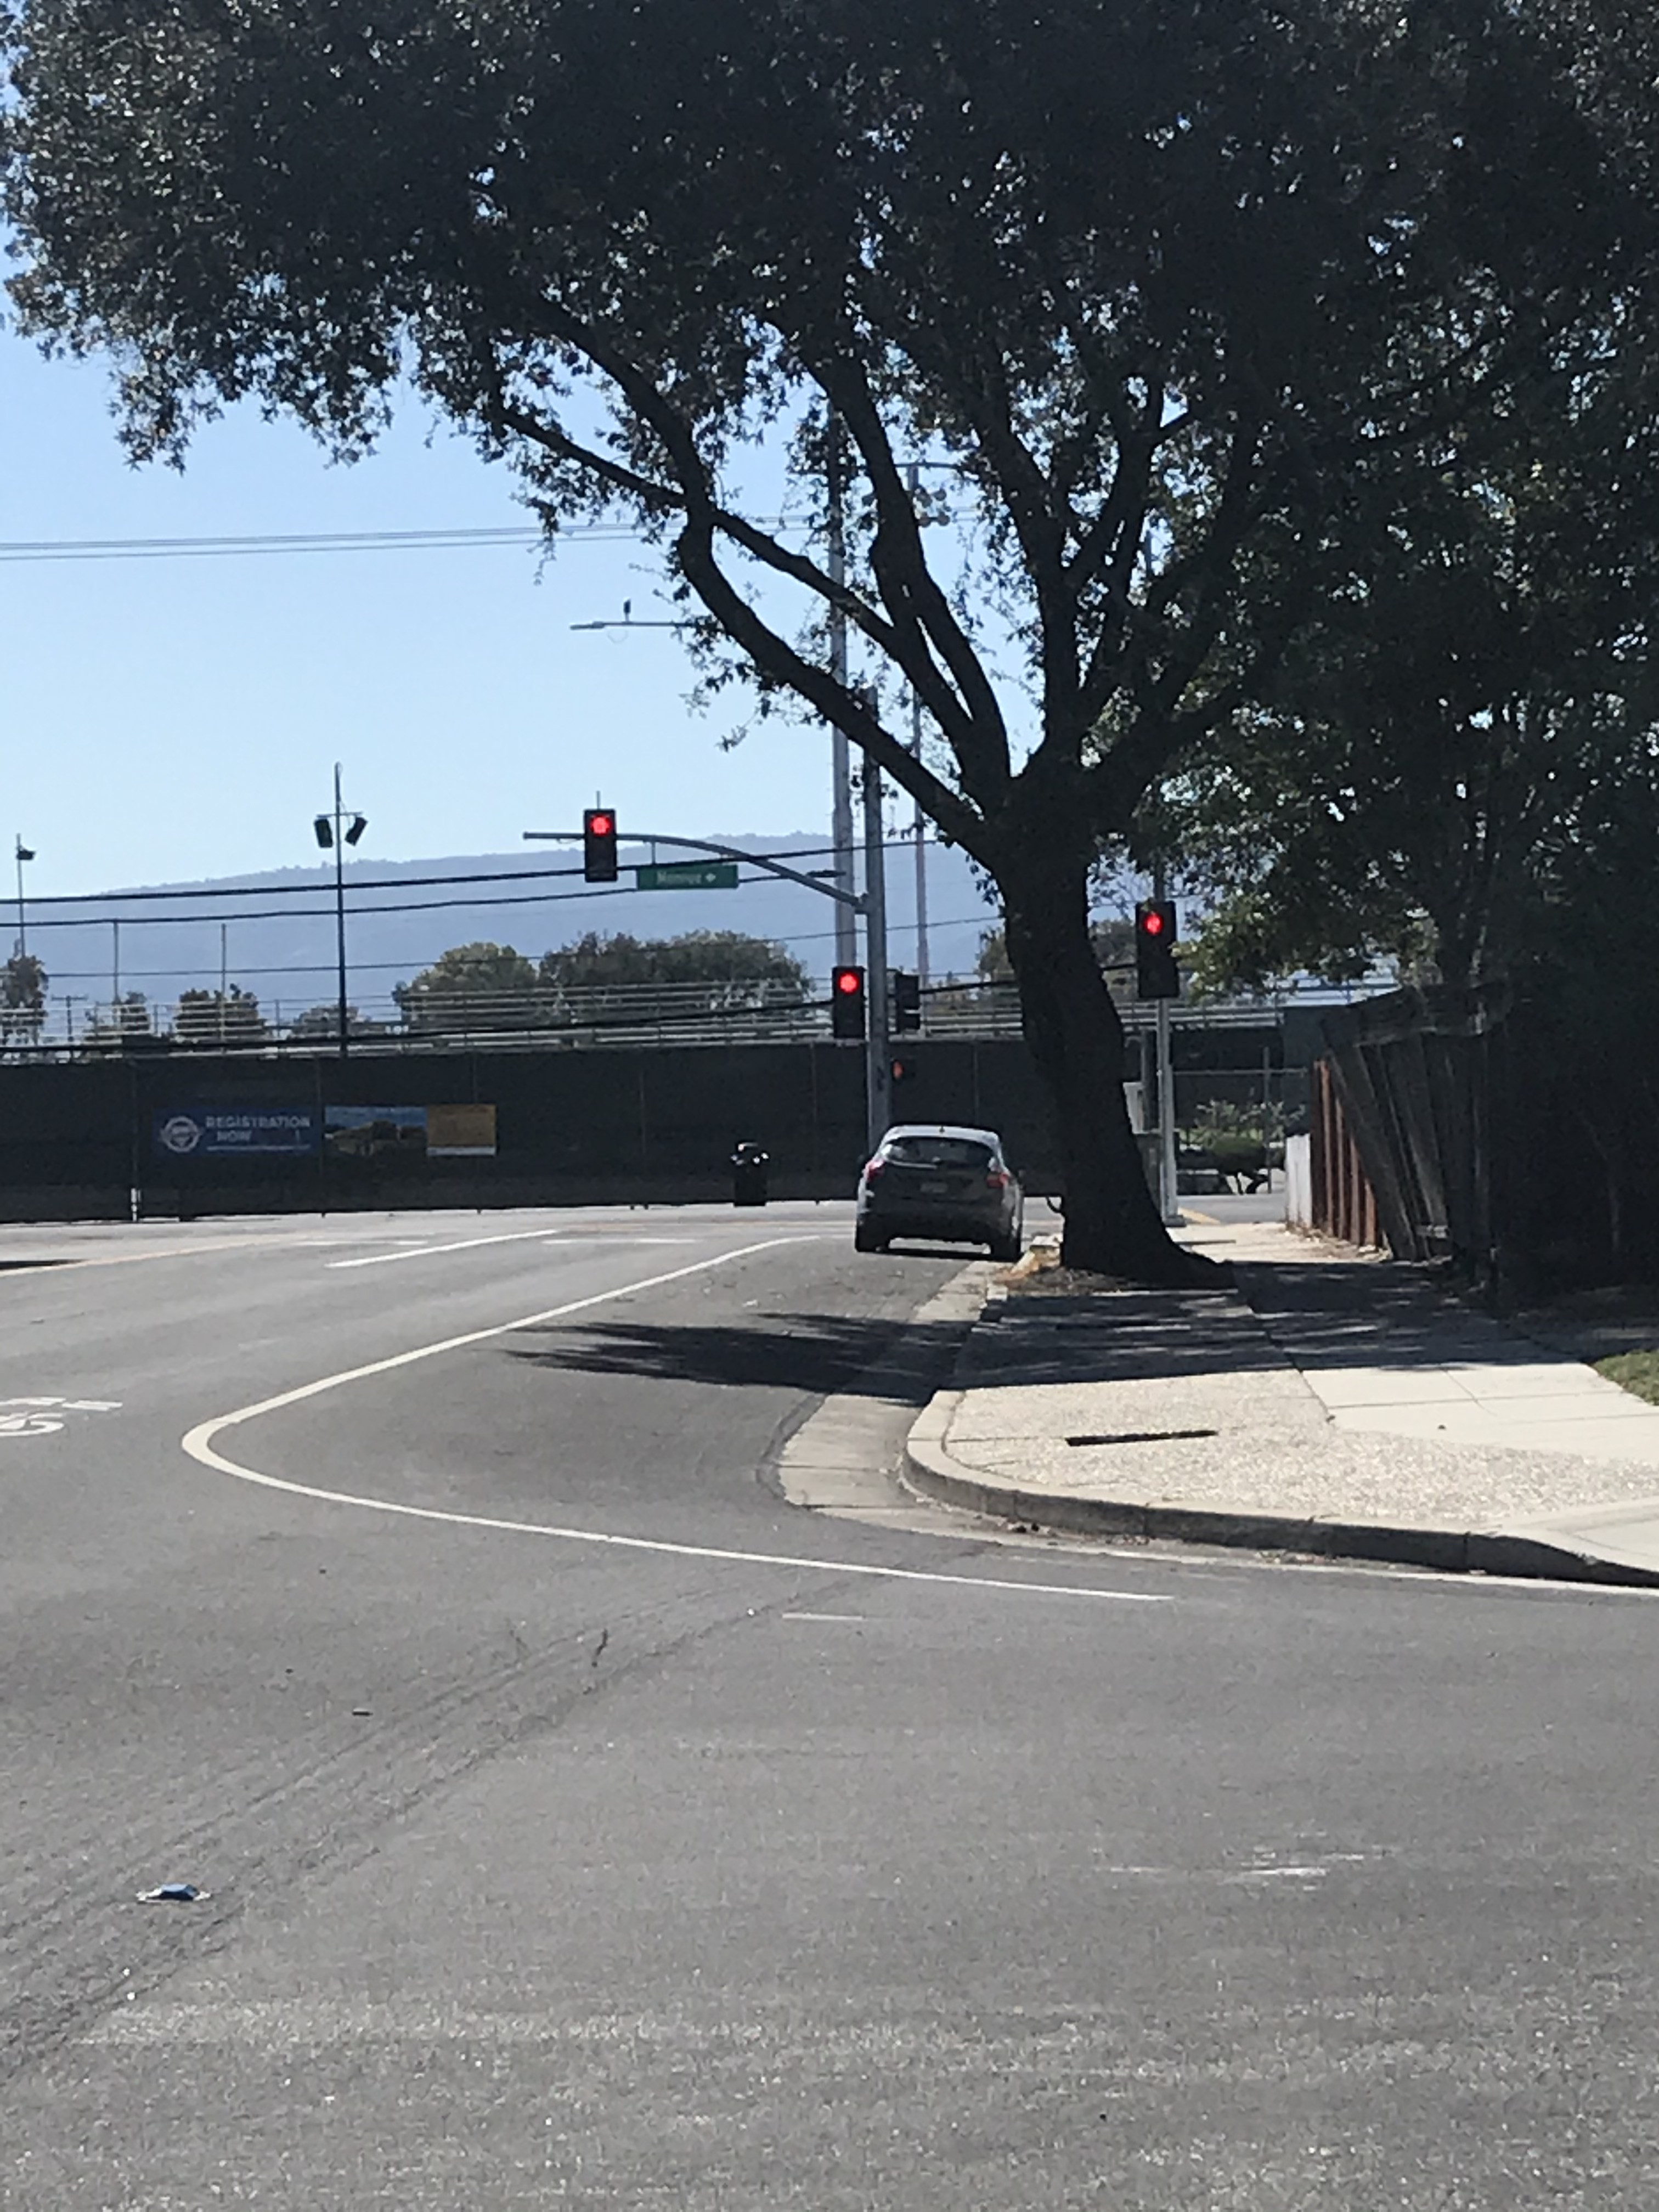red_light: (1140, 906, 1173, 993), (586, 810, 619, 885), (835, 968, 868, 1035)
